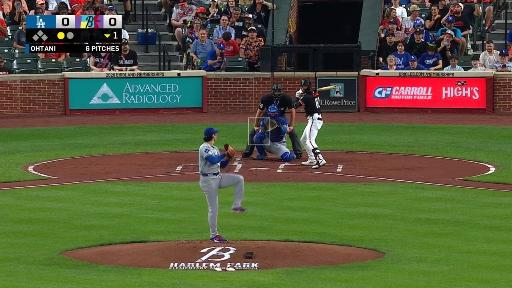pitcher: (198, 127, 247, 241)
